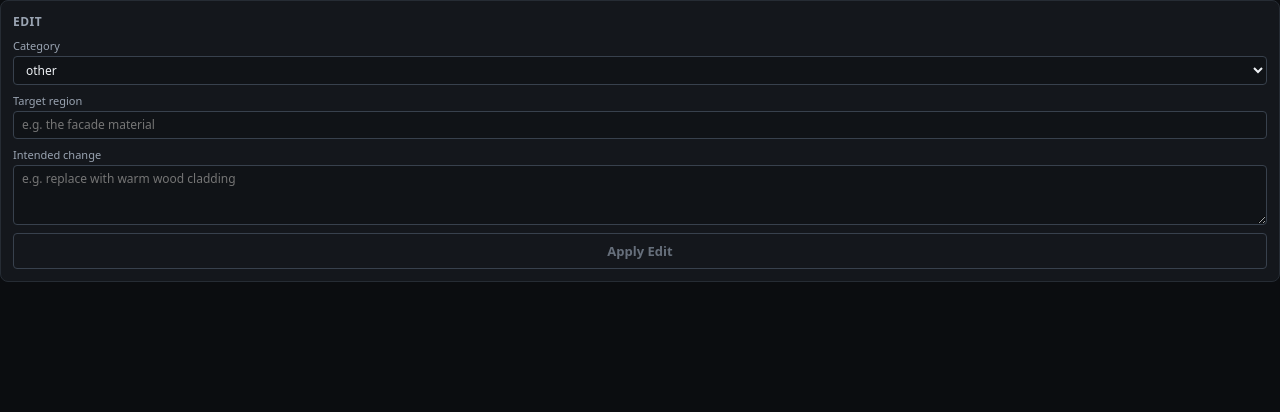
Test: EditPanel — BUILD 14 Advanced Editor › real edit flow against apps/api › shows the real error envelope, not a fake result, when the edit fails
Type "the facade material" into the field labelled "Target region" at (640, 125), box left=13, top=111, right=1267, bottom=139
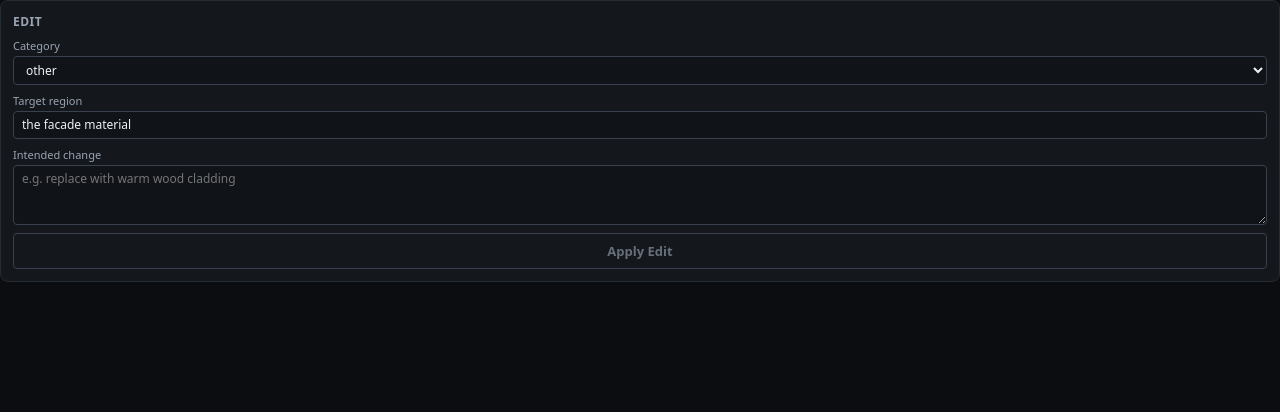
Type "replace with warm wood cladding" into the text box labelled "Intended change" at (640, 195), box left=13, top=165, right=1267, bottom=225
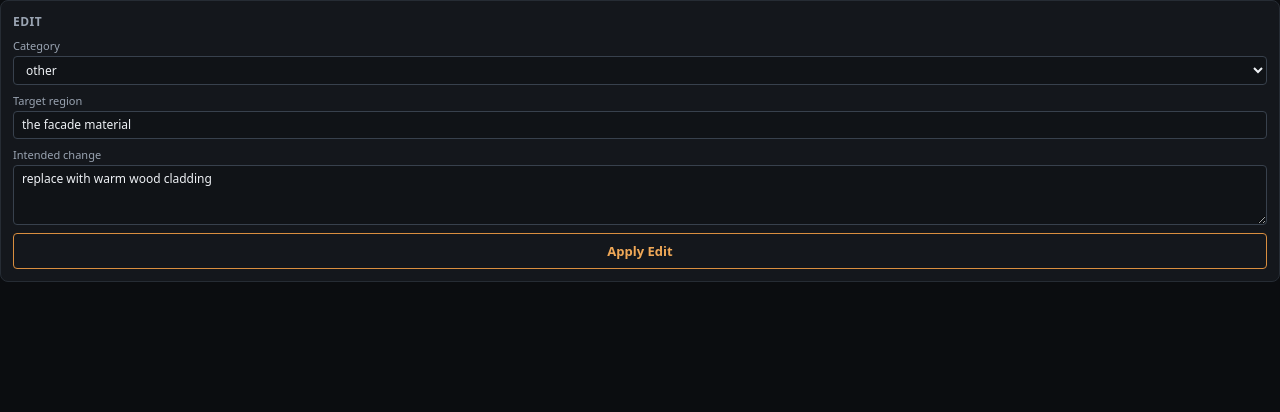
Click the button "Apply Edit" at (640, 251), box left=13, top=233, right=1267, bottom=269
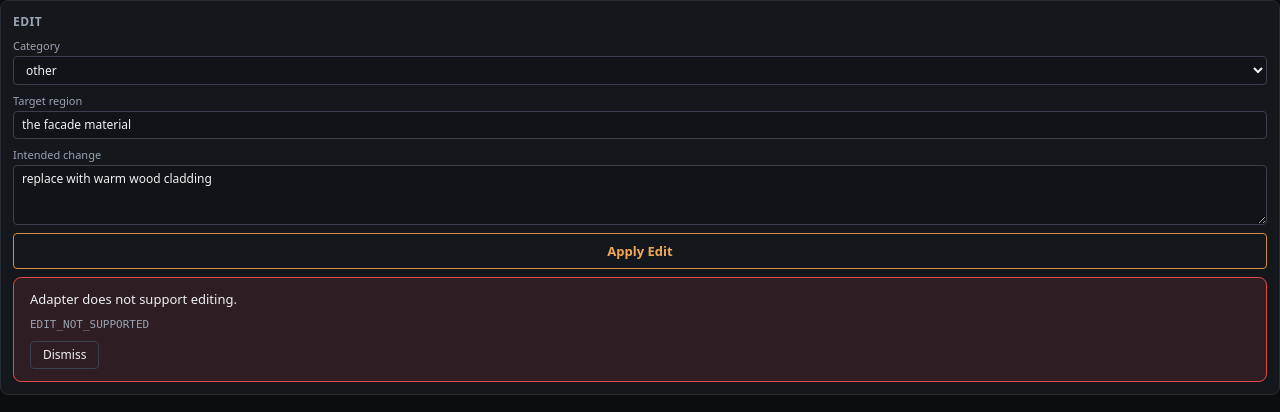
Expected: the message shows "Adapter does not support editing.", left=30, top=290, right=237, bottom=308
